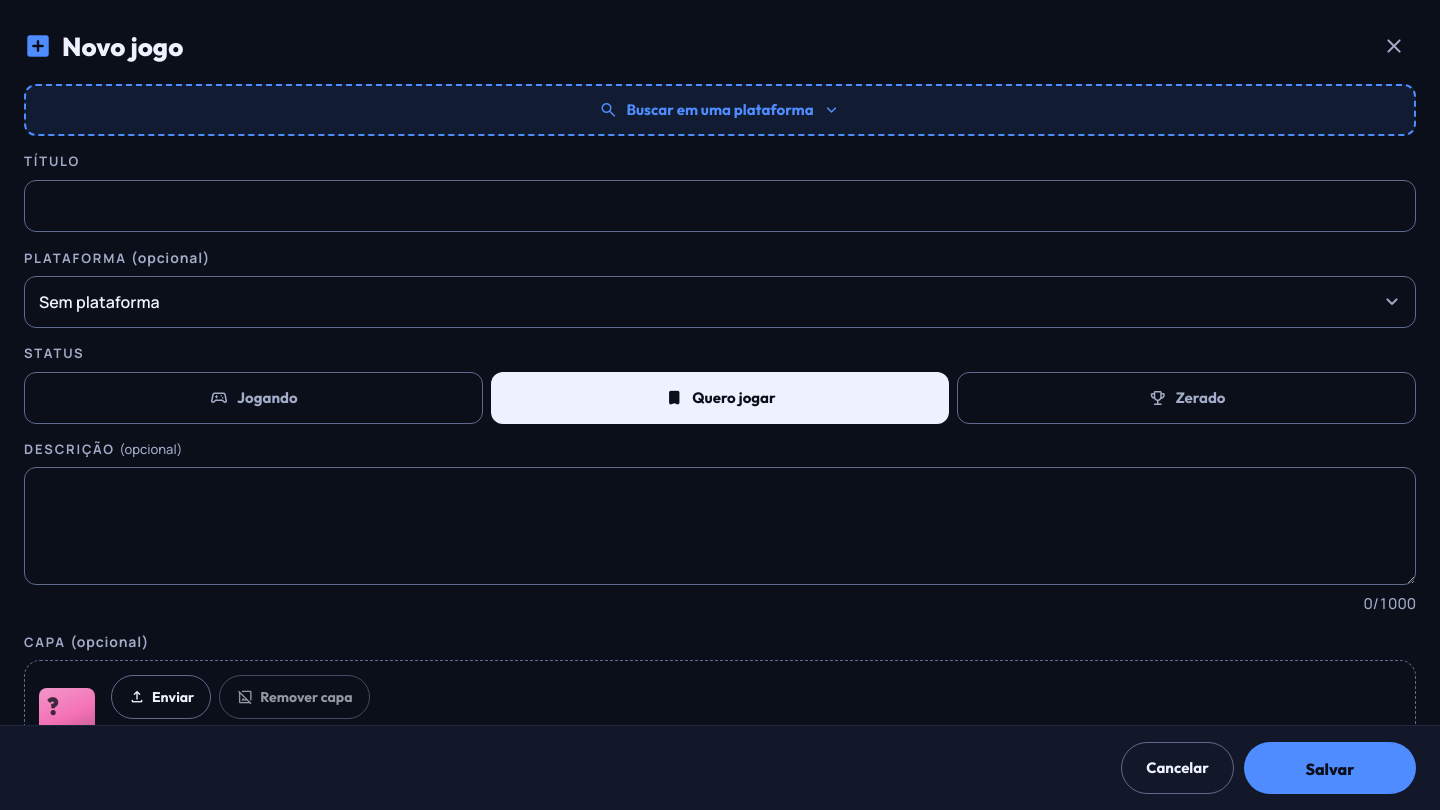
Scenario: GameForm — buscar na Steam (jogo novo) › "Criar jogo" preenche título, PC e status pelas horas (capa só como prévia); "Remover ligação" tira o chip
Click the button "Buscar em uma plataforma" at point(720, 110), box [24,84,1416,136]
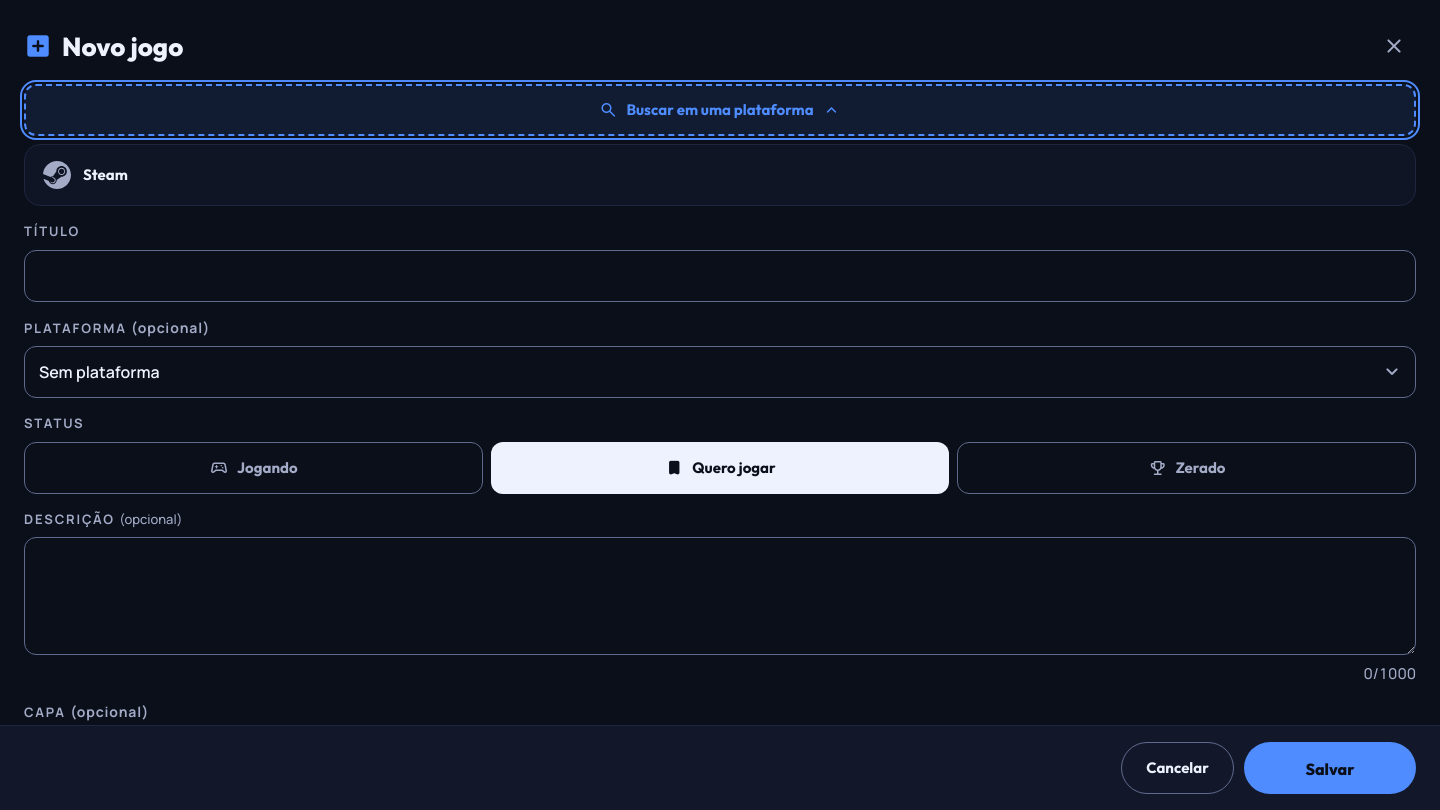
Click the menu item "Steam" at point(105, 174), box [31,151,1409,199]
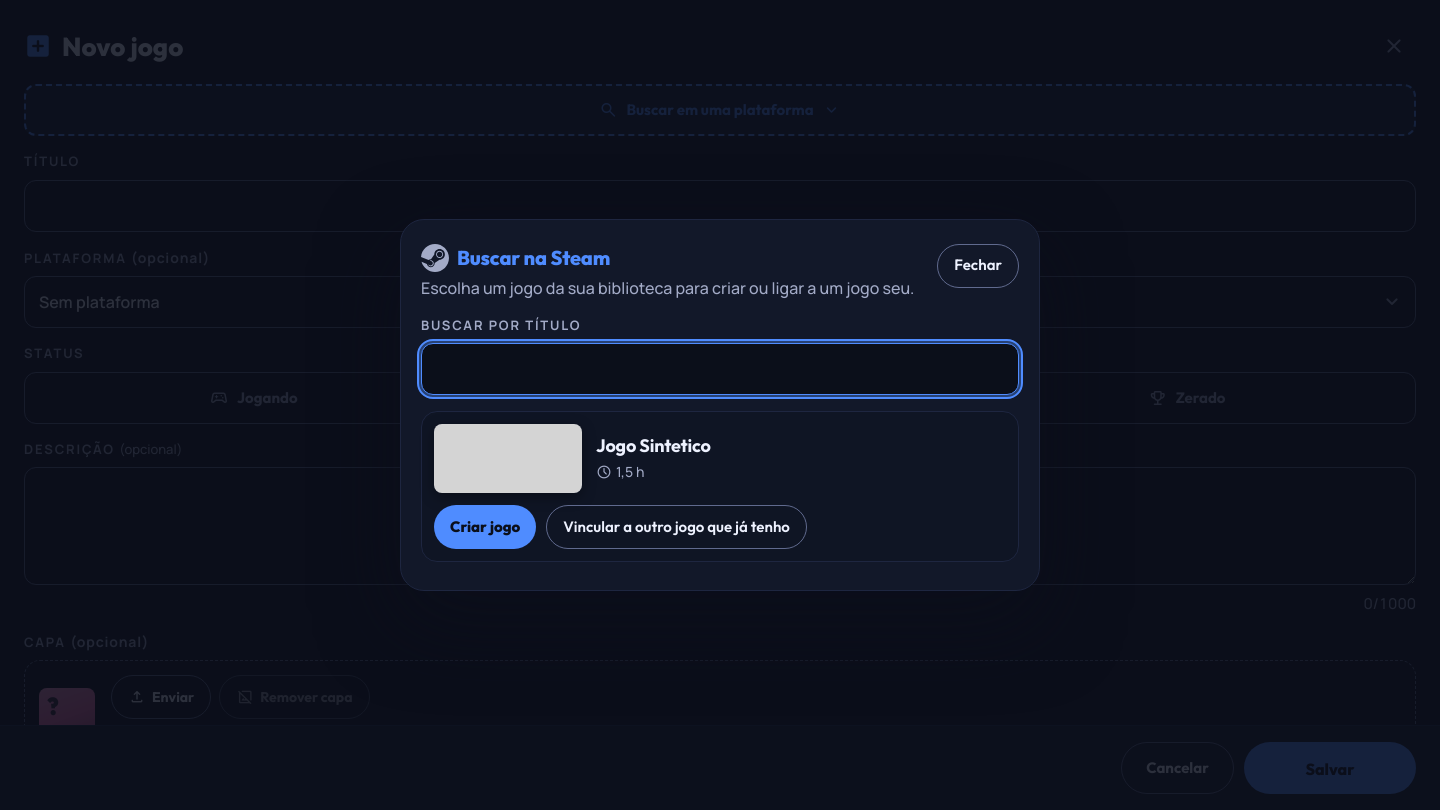
Click the button with aria-label "Criar jogo: Jogo Sintetico" at point(485, 527), box [434,505,536,549]
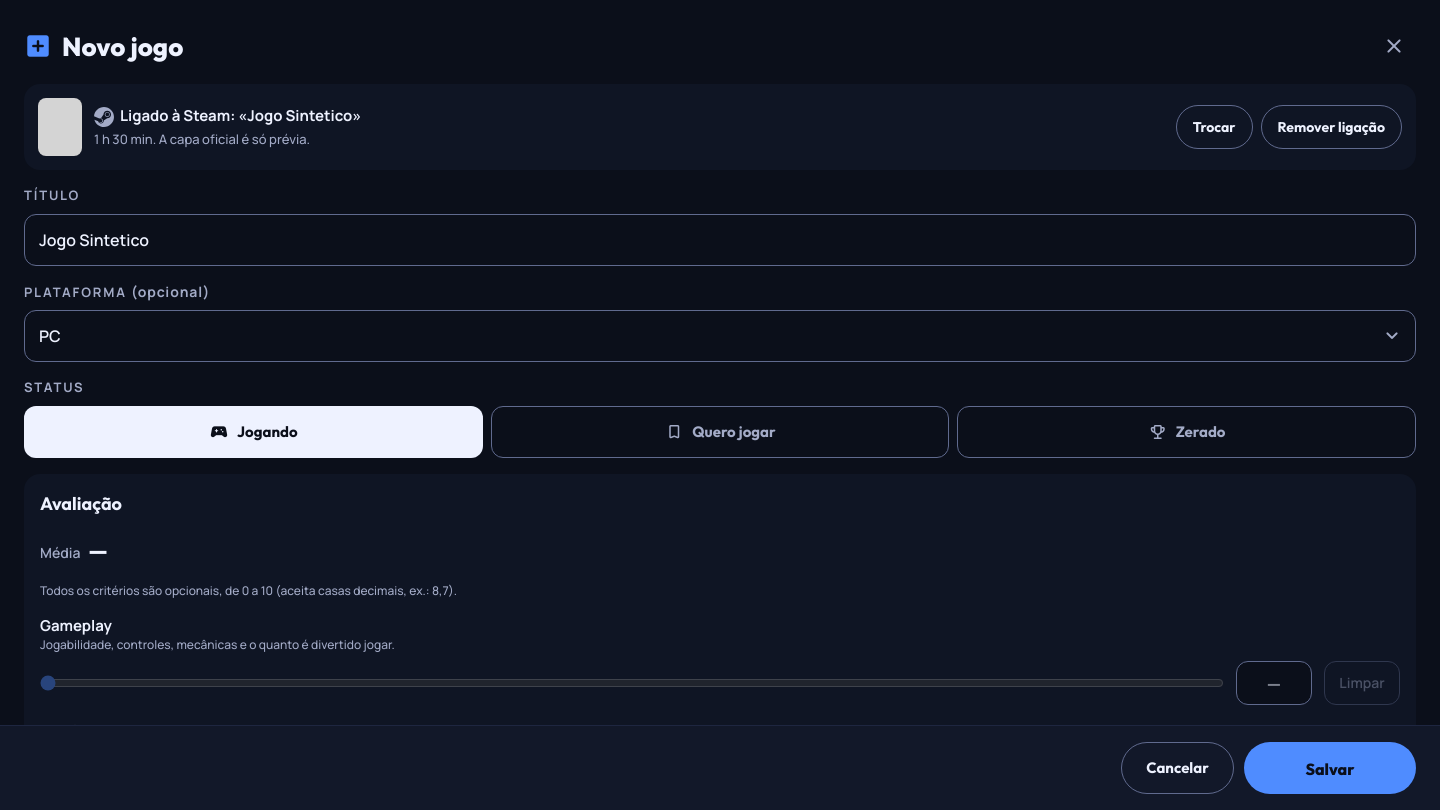
Expected: the field labelled "Título" holds "Jogo Sintetico", [24,214,1416,266]
Expected: the dropdown labelled "Plataforma (opcional)" shows "PC", [24,310,1416,362]
Expected: the text "Ligado à Steam: «Jogo Sintetico»" is shown, [94,105,361,127]
Click the button "Remover ligação" at point(1331, 127), box [1261,105,1402,149]
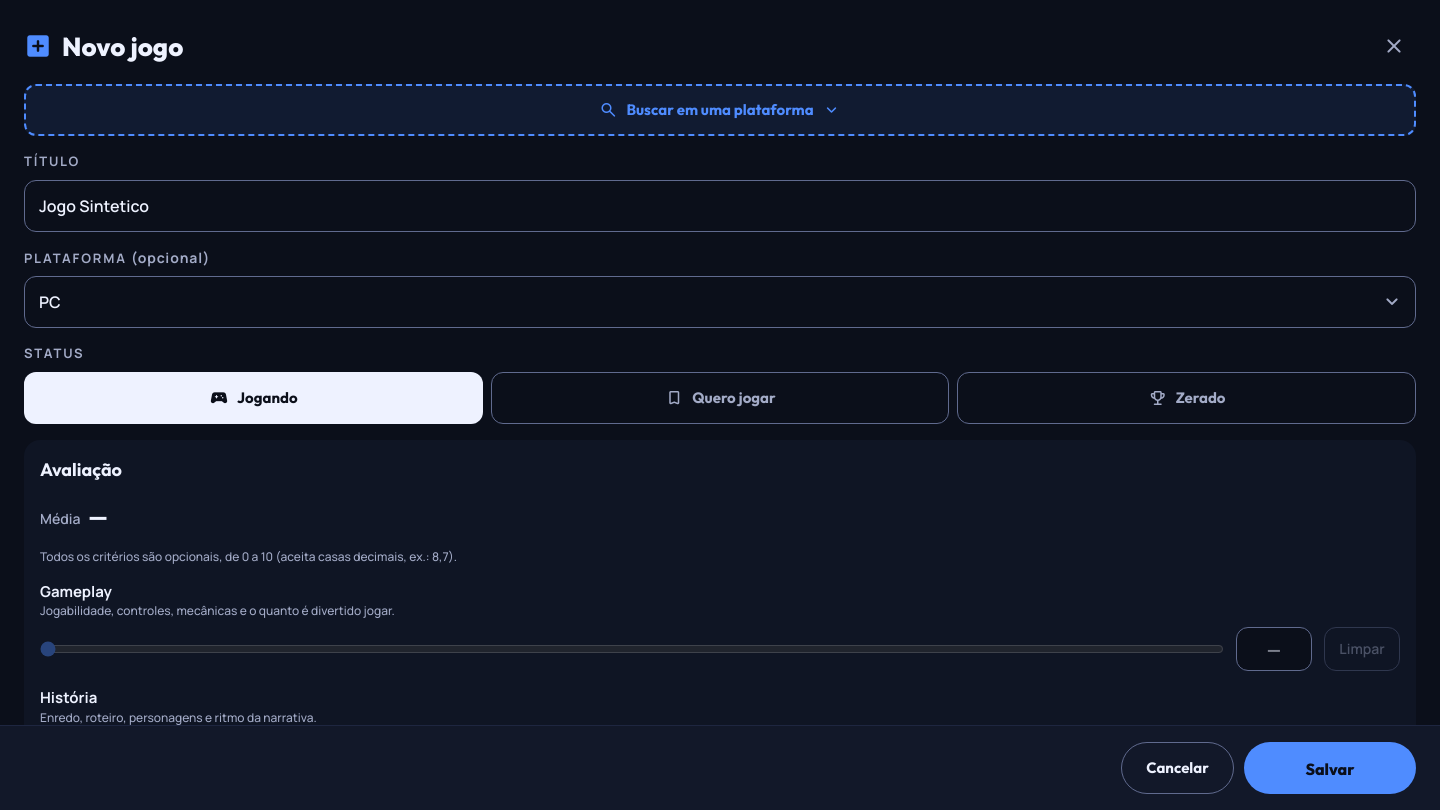
Expected: the field labelled "Título" holds "Jogo Sintetico", [24,180,1416,232]
Expected: the text "Ligado à Steam" is gone
